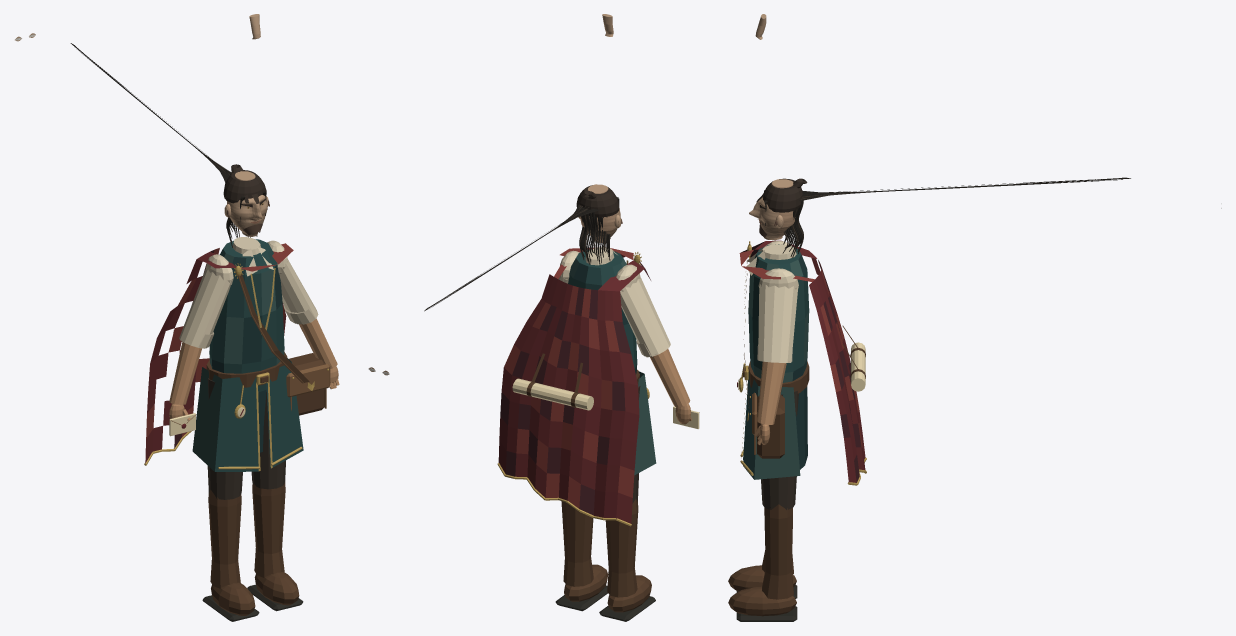
The model's file is courier.glb.
3 renders of one model, left to right at view 1: azimuth 30°, elevation 25°; view 2: azimuth 150°, elevation 25°; view 3: azimuth 270°, elevation 25°, orthographic.
Visible parts, largest first — view 1: Waistcoat, Split_coat_R, Cloak_folds, Boot_shaft_R, Boot_shaft_L, Split_coat_L, Linen_sleeve_R, Forearm_R, Face, Trouser_thigh_L, Linen_sleeve_L, Boot_toe_R (+9 smaller); view 2: Cloak_folds, Boot_shaft_R, Boot_shaft_L, Linen_sleeve_R, Waistcoat, Split_coat_R, Map_roll, Forearm_R, Boot_toe_L, Boot_toe_R, Hair_target_top, Face (+2 smaller); view 3: Cloak_folds, Waistcoat, Linen_sleeve_L, Boot_shaft_L, Split_coat_L, Boot_toe_L, Forearm_L, Trouser_thigh_L, Face, Messenger_satchel, Hair_target_top, Back_coat (+1 smaller).
Boxes of the visible parts, bbox=[...] form: Waistcoat: bbox=[209, 239, 284, 392]; Split_coat_R: bbox=[192, 367, 258, 471]; Cloak_folds: bbox=[145, 243, 293, 463]; Boot_shaft_R: bbox=[208, 490, 241, 588]; Boot_shaft_L: bbox=[252, 481, 285, 577]; Split_coat_L: bbox=[266, 358, 303, 468]; Linen_sleeve_R: bbox=[179, 267, 231, 348]; Forearm_R: bbox=[169, 342, 201, 404]; Face: bbox=[227, 171, 267, 236]; Trouser_thigh_L: bbox=[251, 392, 285, 489]; Linen_sleeve_L: bbox=[279, 258, 318, 324]; Boot_toe_R: bbox=[211, 582, 255, 615]; Cloak_folds: bbox=[498, 247, 650, 523]; Boot_shaft_R: bbox=[605, 499, 638, 597]; Boot_shaft_L: bbox=[561, 501, 593, 586]; Linen_sleeve_R: bbox=[620, 276, 670, 357]; Waistcoat: bbox=[568, 249, 637, 374]; Split_coat_R: bbox=[634, 371, 656, 475]; Map_roll: bbox=[512, 378, 593, 410]; Forearm_R: bbox=[650, 348, 690, 407]; Boot_toe_L: bbox=[564, 564, 608, 601]; Boot_toe_R: bbox=[607, 575, 651, 612]; Hair_target_top: bbox=[576, 185, 619, 217]; Face: bbox=[580, 184, 620, 242]; Cloak_folds: bbox=[739, 240, 865, 482]; Waistcoat: bbox=[748, 244, 809, 382]; Linen_sleeve_L: bbox=[758, 284, 798, 362]; Boot_shaft_L: bbox=[762, 504, 793, 599]; Split_coat_L: bbox=[743, 372, 800, 479]; Boot_toe_L: bbox=[728, 586, 796, 616]; Forearm_L: bbox=[757, 361, 786, 424]; Trouser_thigh_L: bbox=[761, 390, 798, 509]; Face: bbox=[749, 179, 795, 240]; Messenger_satchel: bbox=[757, 394, 784, 458]; Hair_target_top: bbox=[763, 178, 802, 212]; Back_coat: bbox=[795, 386, 807, 469].
Size of the model in its own units: 0.7395 by 2.41 by 1.83.
